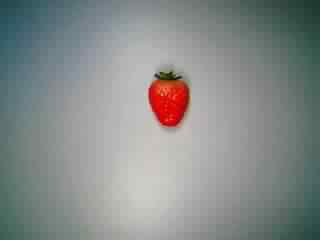strawberry: (136, 64, 204, 128)
